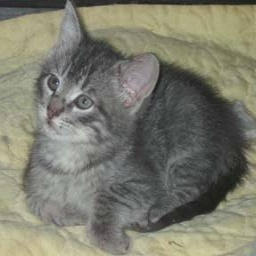cat: (21, 6, 256, 253)
